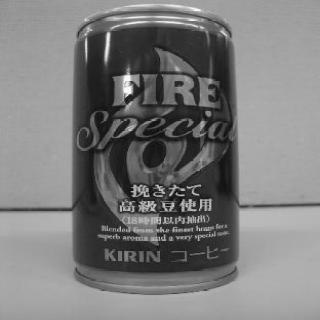alumunium_can: (66, 1, 243, 295)
